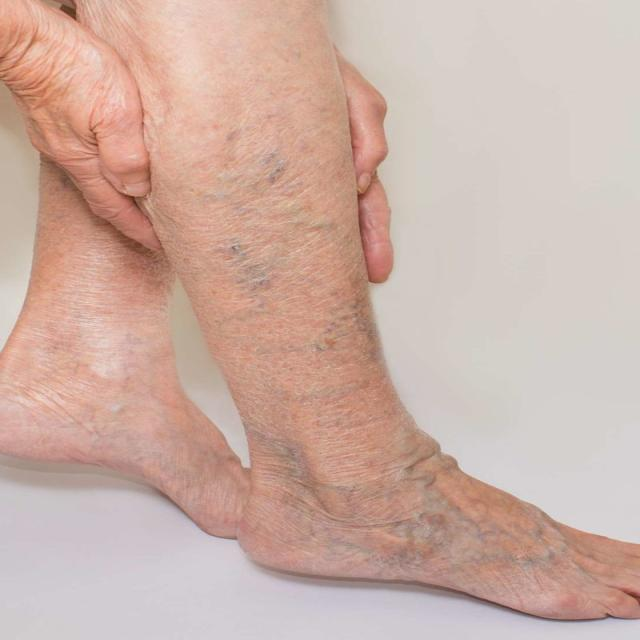Varicose: (160, 101, 603, 615)
